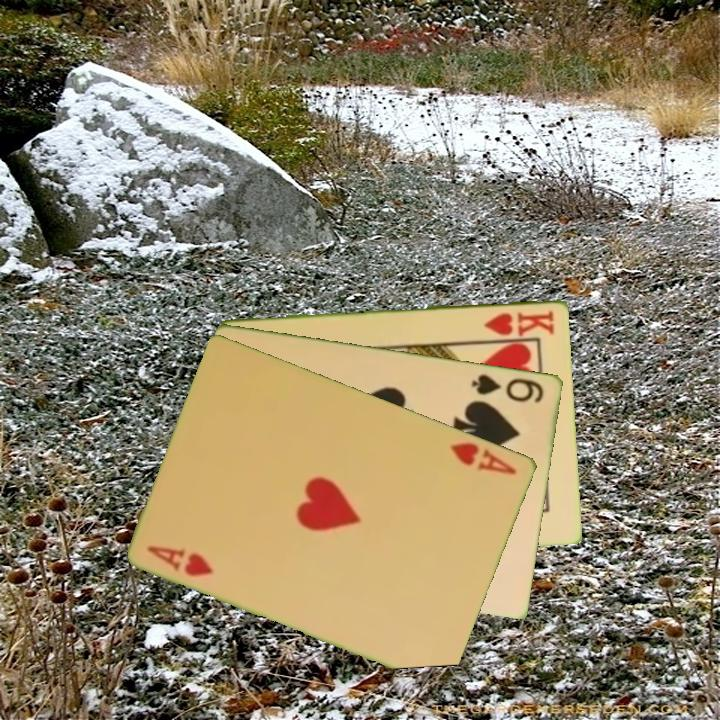6s: (468, 370, 547, 406)
Ah: (446, 438, 520, 478), (144, 541, 217, 579)
Kh: (481, 307, 558, 338)
